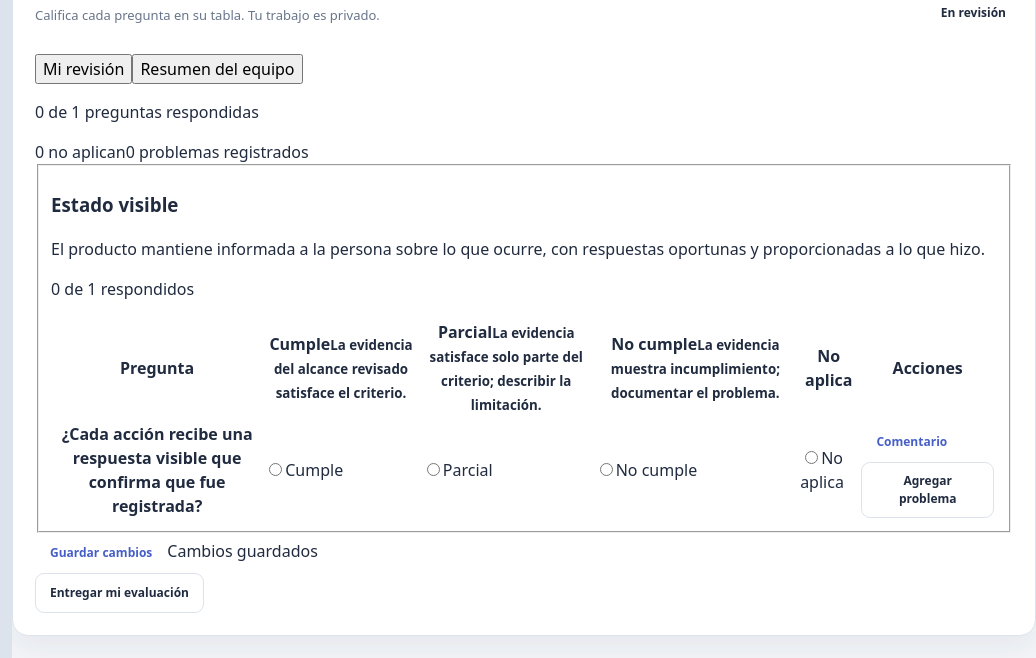
Test case: flujo individual › no colapsa un problema incompleto y dice qué falta
Click the button "Agregar problema" at (928, 490), box [861,462,994,518]
(page scrolled)
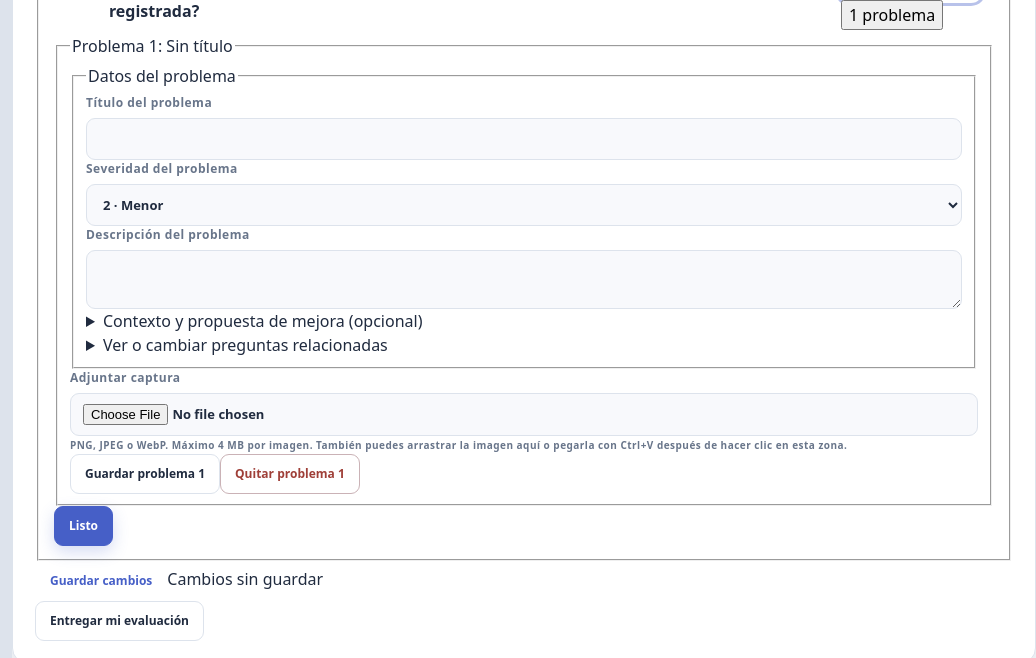
Click the button "Guardar problema 1" at (145, 474), box [70,454,220,494]
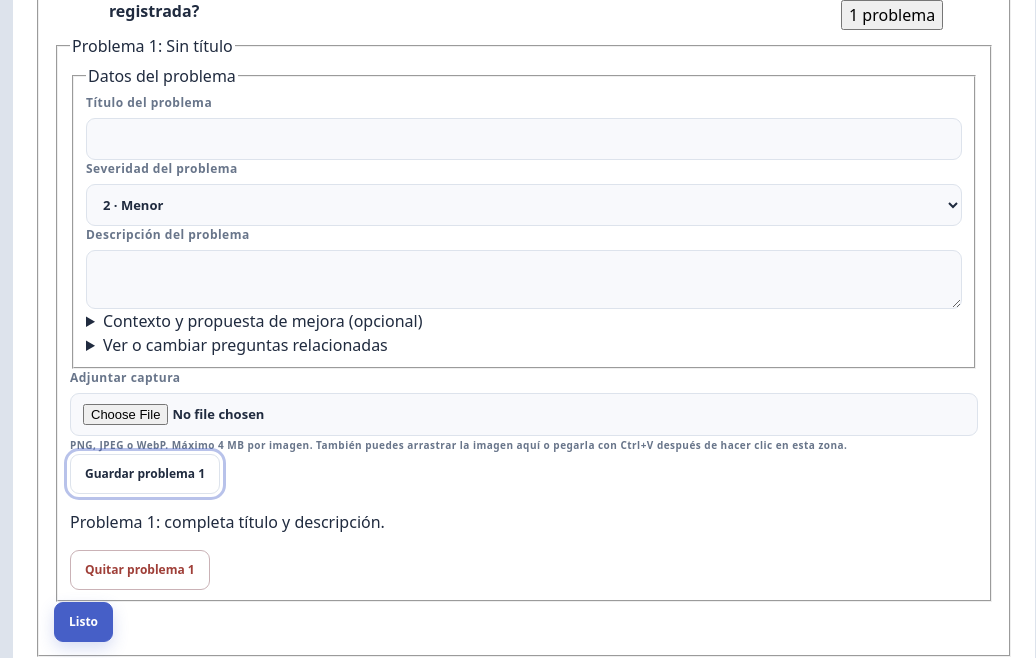
Check: the field labelled "Título del problema" is shown, box [86,118,962,160]
Check: the text "Problema 1: completa título y descripción." is shown, box [70,511,385,533]
